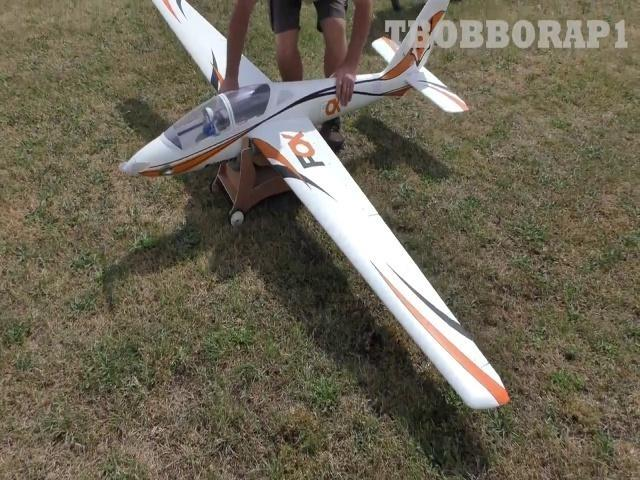Airplane: (118, 1, 509, 410)
